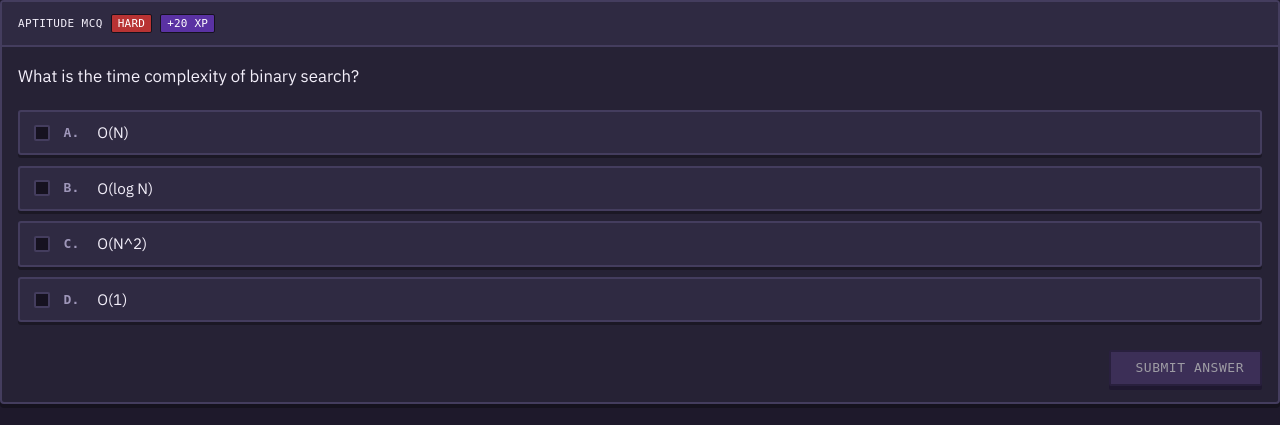
Test: McqChallengeCard component › renders radio indicators and dynamic difficulty badge color
The width and height of the screenshot is (1280, 425).
Check: the number of elements with class "radio-indicator" is 4, box [34,124,50,140]; [34,180,50,196]; [34,236,50,252]; [34,292,50,308]
Note: Click third option (index 2)
What coordinates should you click on to do the following:
click the element with class "option-tile" showing "C. O(N^2)"
I would click on:
 (640, 244)
Its box is [18,221,1262,266].
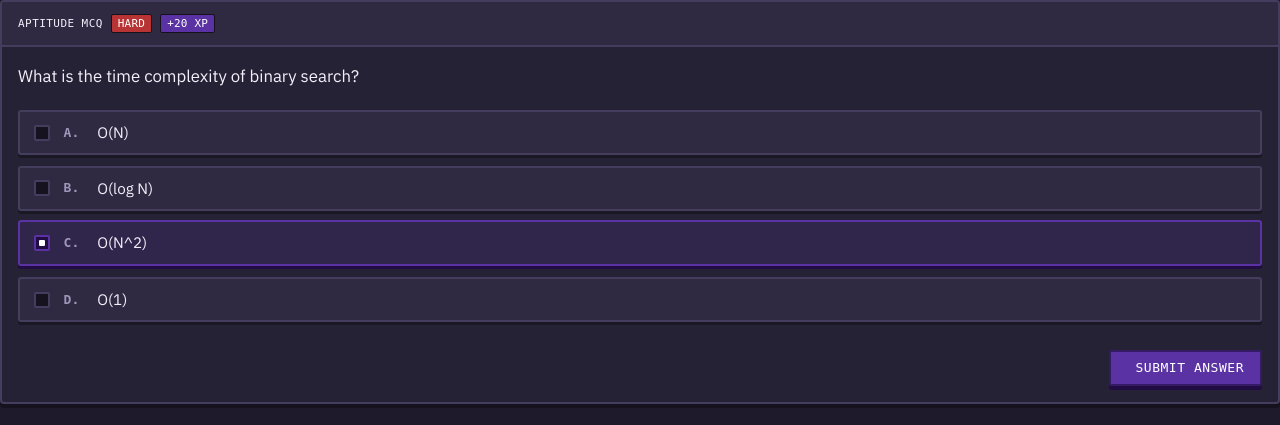
Check: the text "HARD" is shown, box [111,14,152,33]
Check: the element with class "radio-dot" is shown, box [39,240,45,246]
